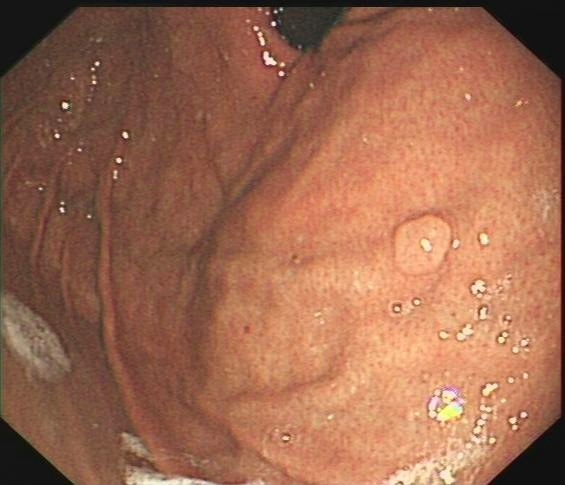Polyp: (377, 211, 465, 283)
